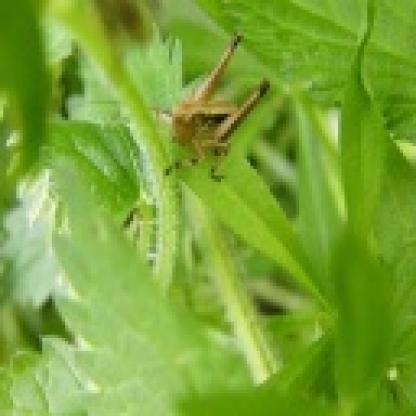grasshopper: (157, 31, 273, 176)
